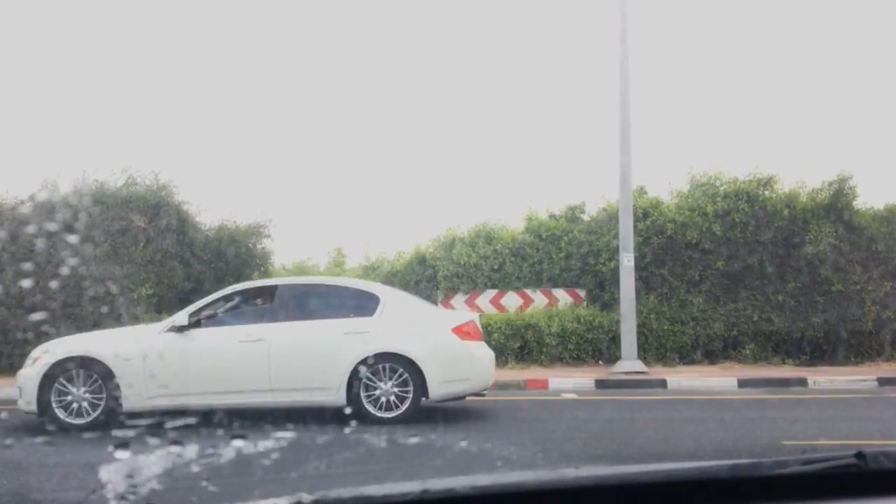car: (9, 275, 496, 433)
